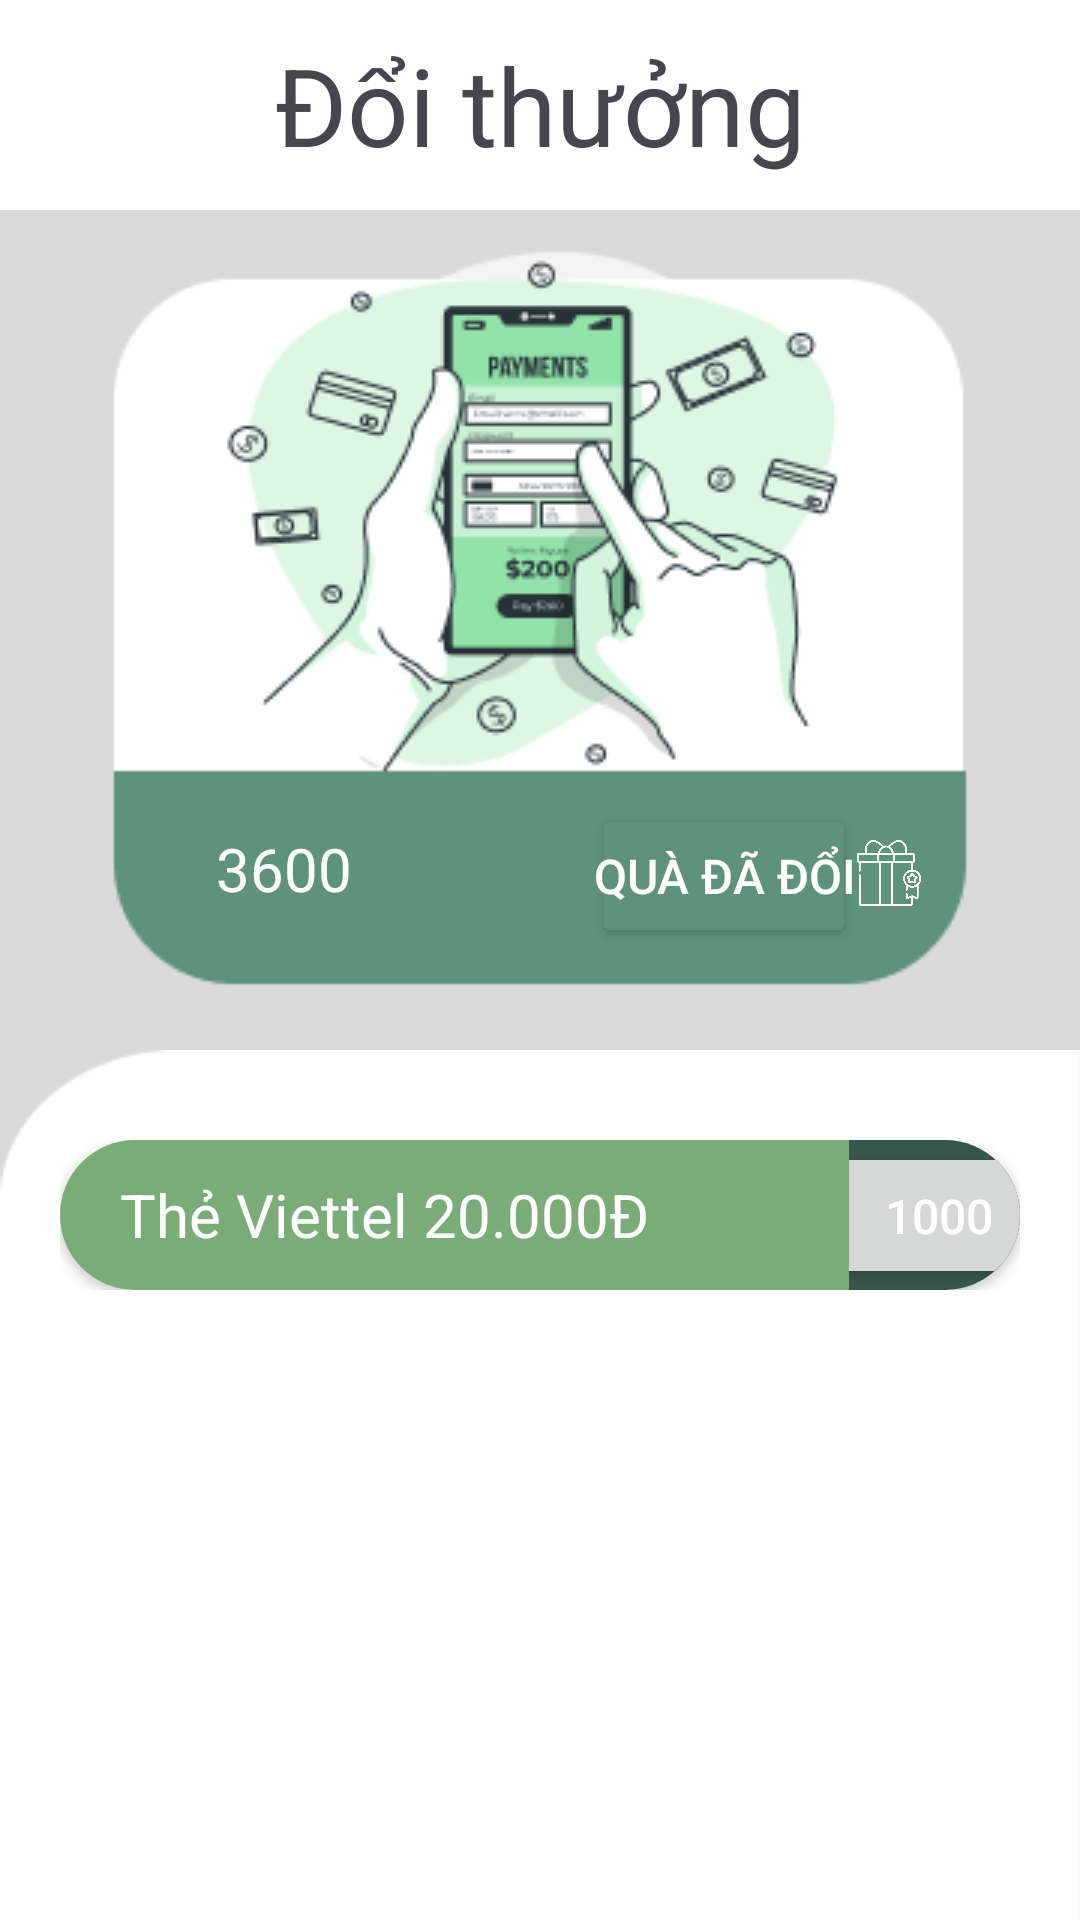

Where to tap for icons on this 1080px×1920px app screen, as (x,y):
rewarded: (889,873)
